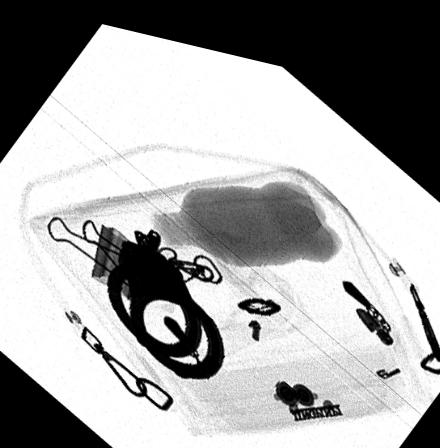HandCuffs: (106, 220, 224, 369)
